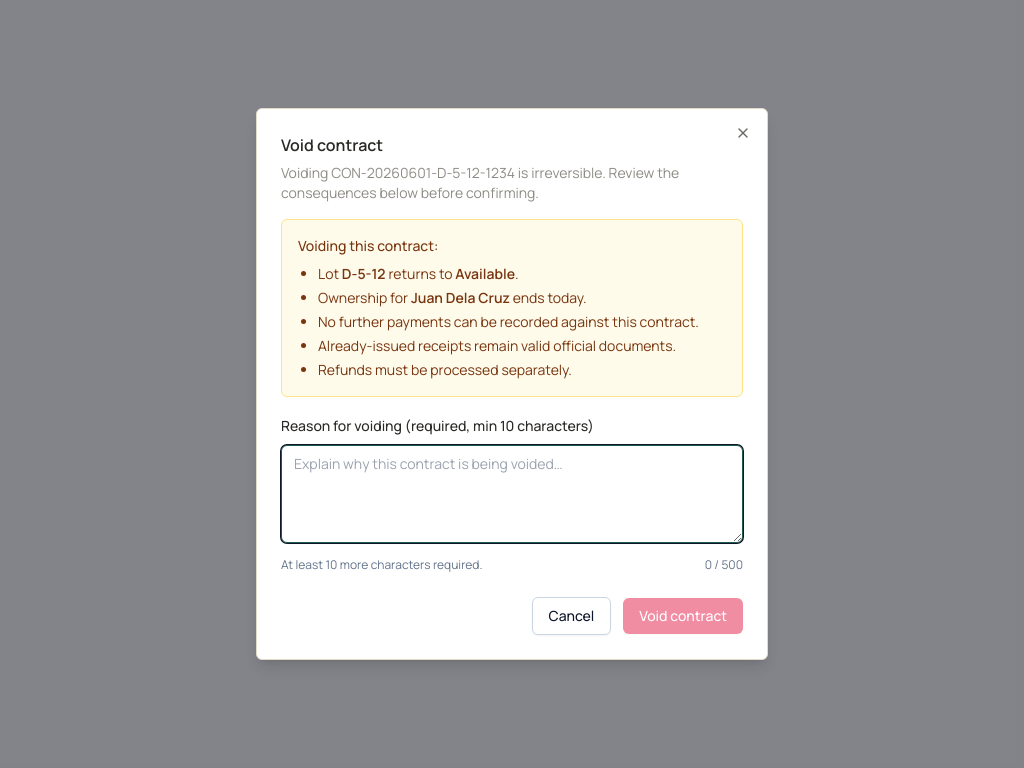
Test: VoidContractDialog › surfaces mutation errors inline as role=alert without locking submit
The width and height of the screenshot is (1024, 768).
In the text box with test id "void-contract-reason": (512, 494) [281,445,743,543], type "Trying to void with an interment."
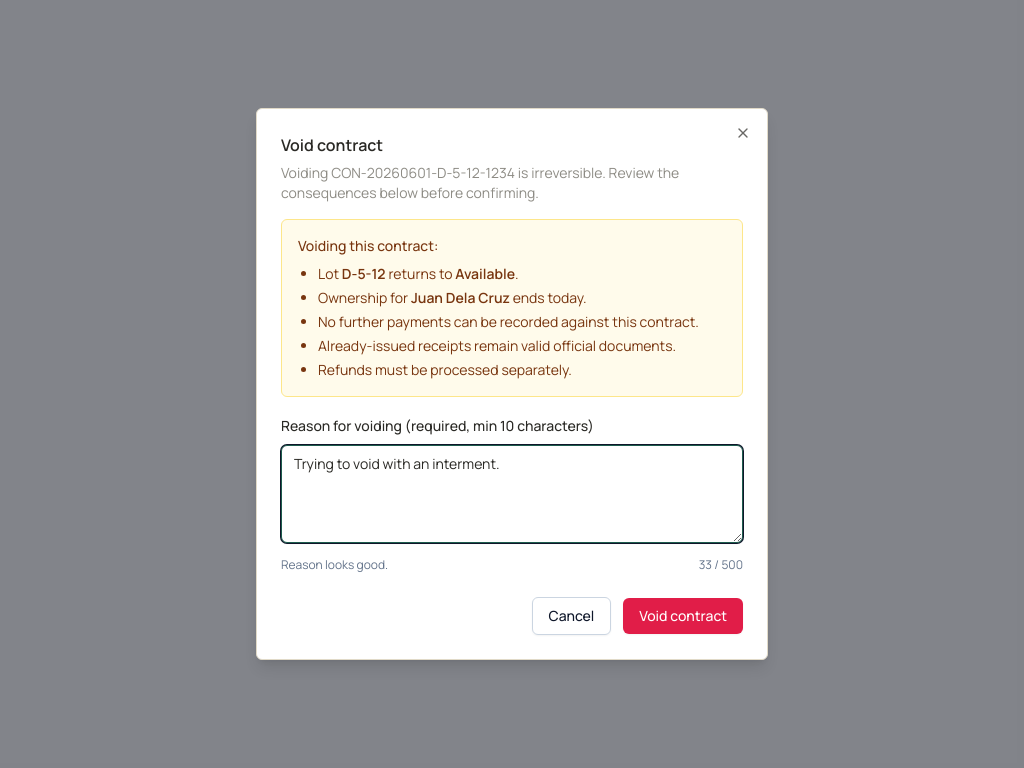
Click the button with test id "void-contract-confirm": click(683, 616) [623,598,743,634]
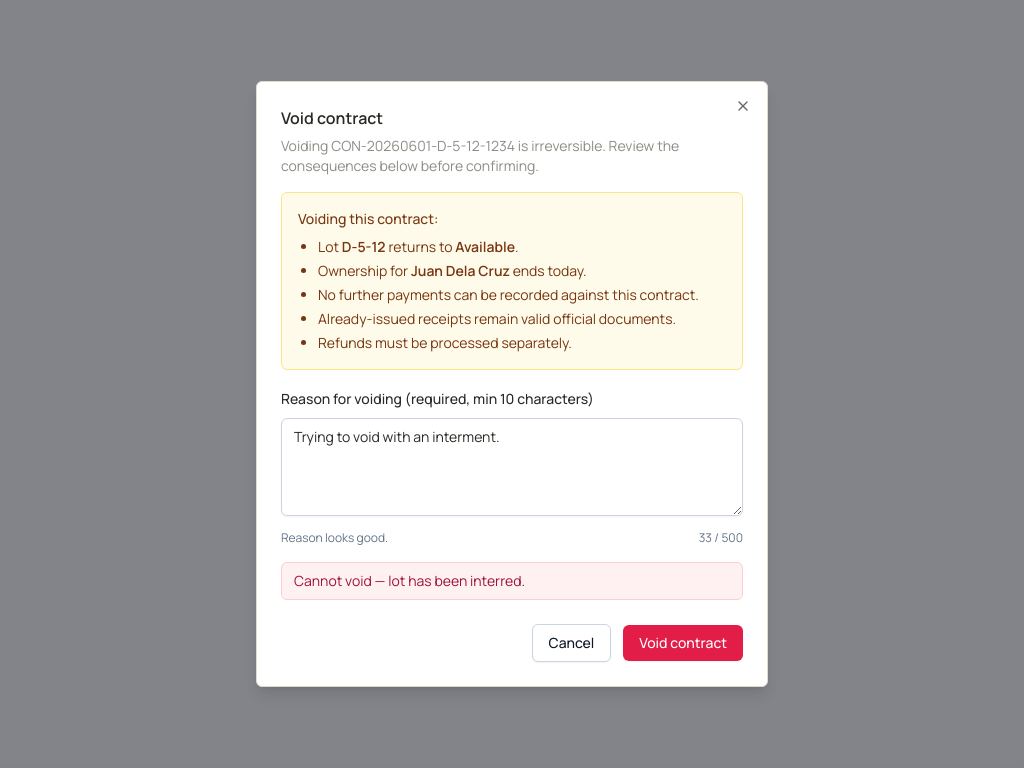
Expected: the button with test id "void-contract-confirm" is enabled, [623,625,743,661]
Expected: the message reads "Cannot void — lot has been interred.", [294,571,525,590]
